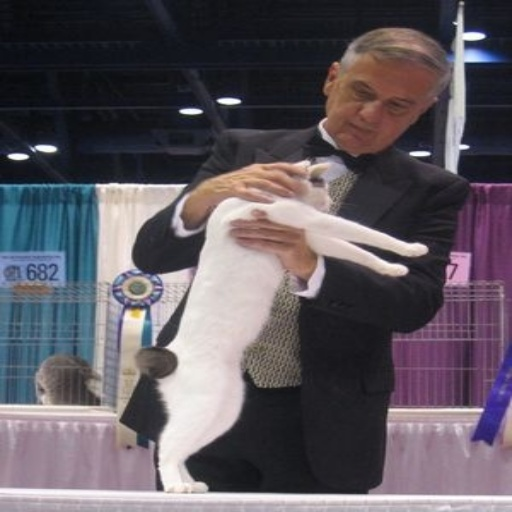hand: (223, 207, 317, 275), (192, 162, 305, 209)
